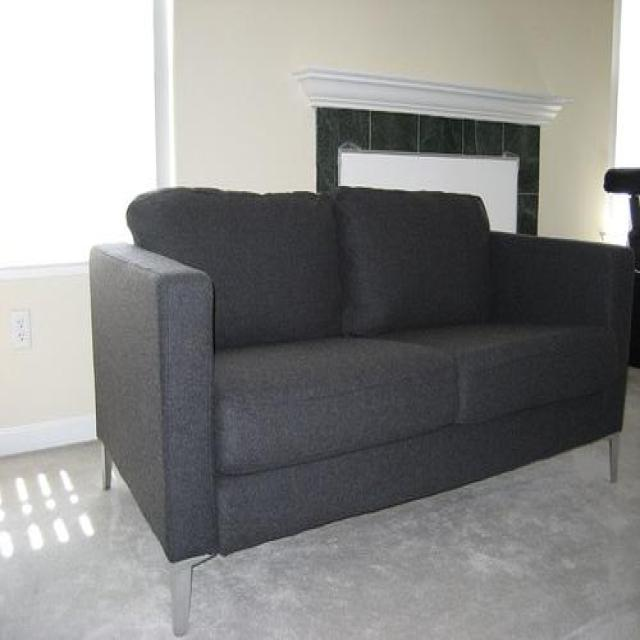sofa: (85, 176, 635, 638)
